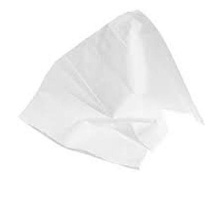tissue: (12, 3, 212, 175)
